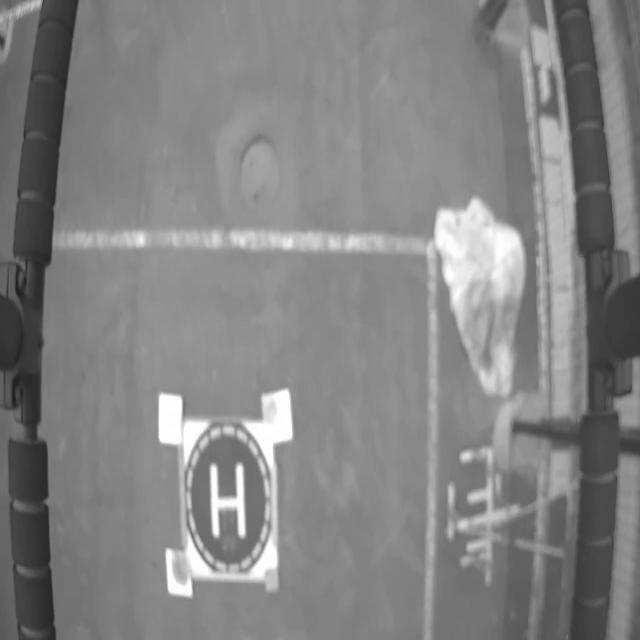Helipad: (210, 463, 246, 539)
